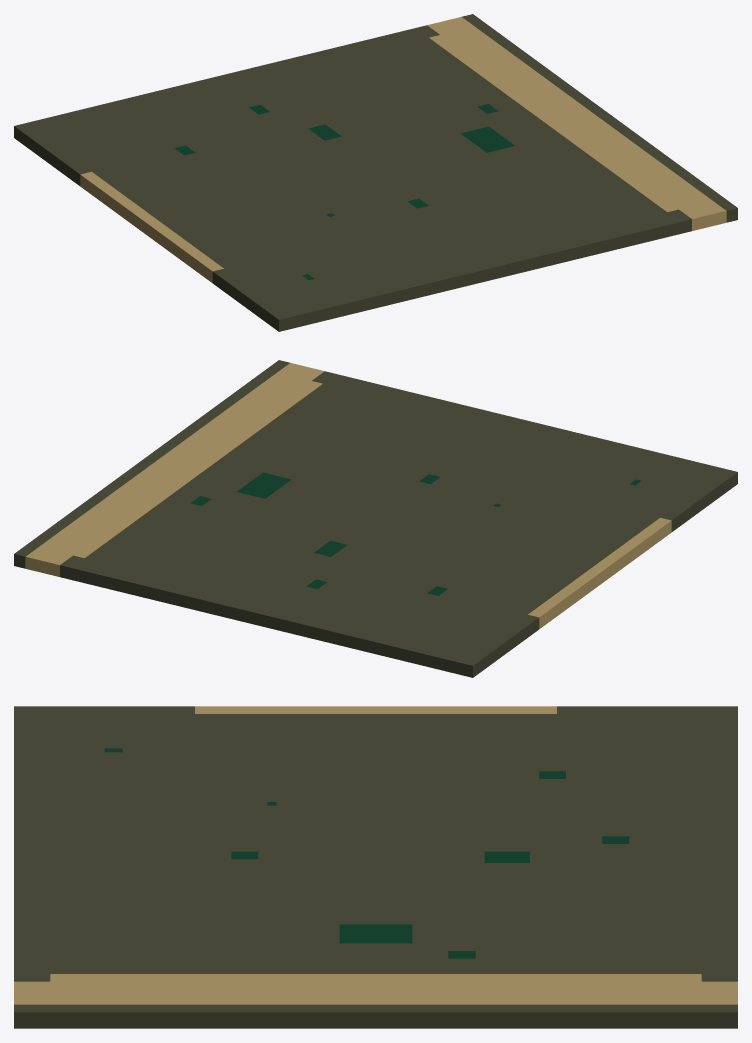
The model's file is Road-Street8-B.glb.
The picture shows the model from 3 angles, top to bottom: view 1: azimuth 30°, elevation 25°; view 2: azimuth 150°, elevation 25°; view 3: azimuth 270°, elevation 25°; orthographic projection. The views are drawn at different scales.
Visible parts, largest first — view 1: Road-Street8-B; view 2: Road-Street8-B; view 3: Road-Street8-B.
Boxes of the visible parts, x1=… form: Road-Street8-B: x1=14, y1=14, x2=737, y2=331; Road-Street8-B: x1=14, y1=360, x2=737, y2=677; Road-Street8-B: x1=14, y1=706, x2=737, y2=1028.
Bounding box in the file's own units: 1.6 × 0.04 × 1.6.
1 material, 1 textured.
